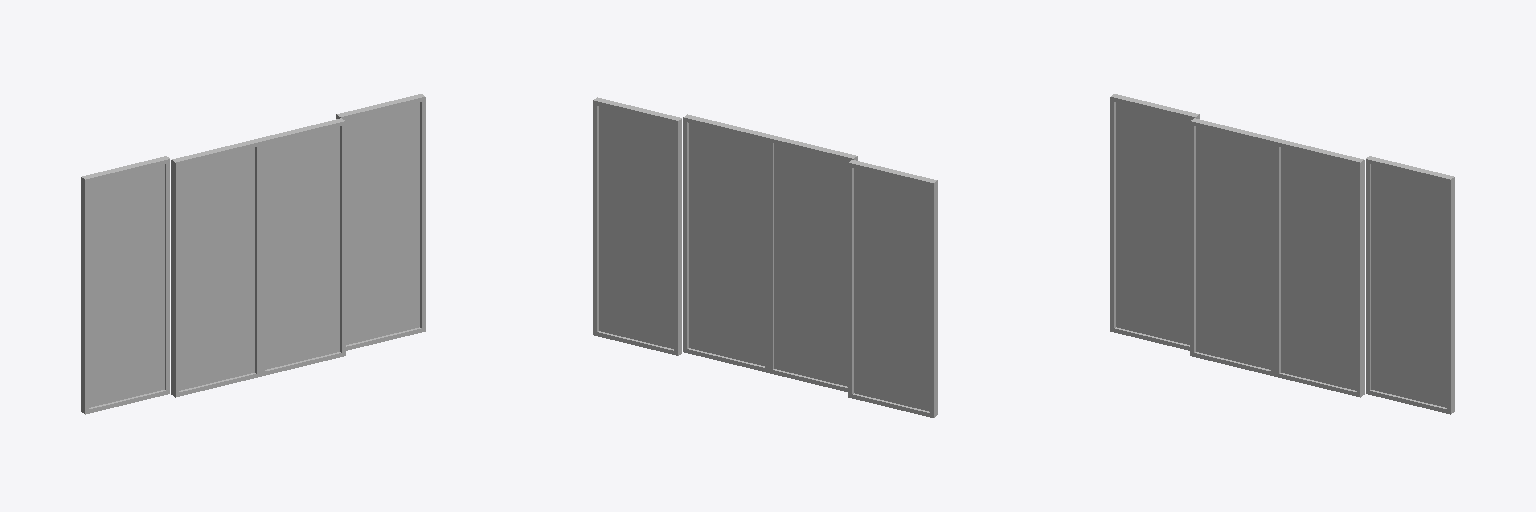
Rendered from frontDoors.obj.
3 views of the same model, side by side, from view 1: azimuth 30°, elevation 25°; view 2: azimuth 150°, elevation 25°; view 3: azimuth 330°, elevation 25° (orthographic).
Visible parts, largest first — view 1: pCube69, pCube68, pCube70, pCube67, pCube66 polySurface122, polySurface121 pCube66, pCube66 polySurface123, pCube66 polySurface120; view 2: pCube68, pCube70, pCube67, pCube69, polySurface121 pCube66, pCube66 polySurface120, pCube66 polySurface123, pCube66 polySurface122; view 3: pCube70, pCube67, pCube69, pCube68, pCube66 polySurface123, pCube66 polySurface120, pCube66 polySurface122, polySurface121 pCube66.
Part boxes in pixels (x1,y1,x2,y2): pCube69: (179,147,254,390); pCube68: (89,164,164,407); pCube70: (265,127,339,369); pCube67: (345,102,419,344); pCube66 polySurface122: (171,139,260,397); polySurface121 pCube66: (81,156,169,414); pCube66 polySurface123: (257,118,345,376); pCube66 polySurface120: (336,94,425,350); pCube68: (854,168,929,411); pCube70: (689,123,764,365); pCube67: (599,106,673,348); pCube69: (774,144,848,386); polySurface121 pCube66: (848,160,937,417); pCube66 polySurface120: (593,97,681,355); pCube66 polySurface123: (683,114,771,372); pCube66 polySurface122: (769,135,857,391); pCube70: (1281,147,1356,390); pCube67: (1371,164,1446,407); pCube69: (1196,127,1270,369); pCube68: (1116,102,1190,344); pCube66 polySurface123: (1275,139,1364,397); pCube66 polySurface120: (1366,156,1454,414); pCube66 polySurface122: (1190,118,1278,376); polySurface121 pCube66: (1110,94,1199,350).
Bounding box in the file's own units: 292 × 192 × 13.56.